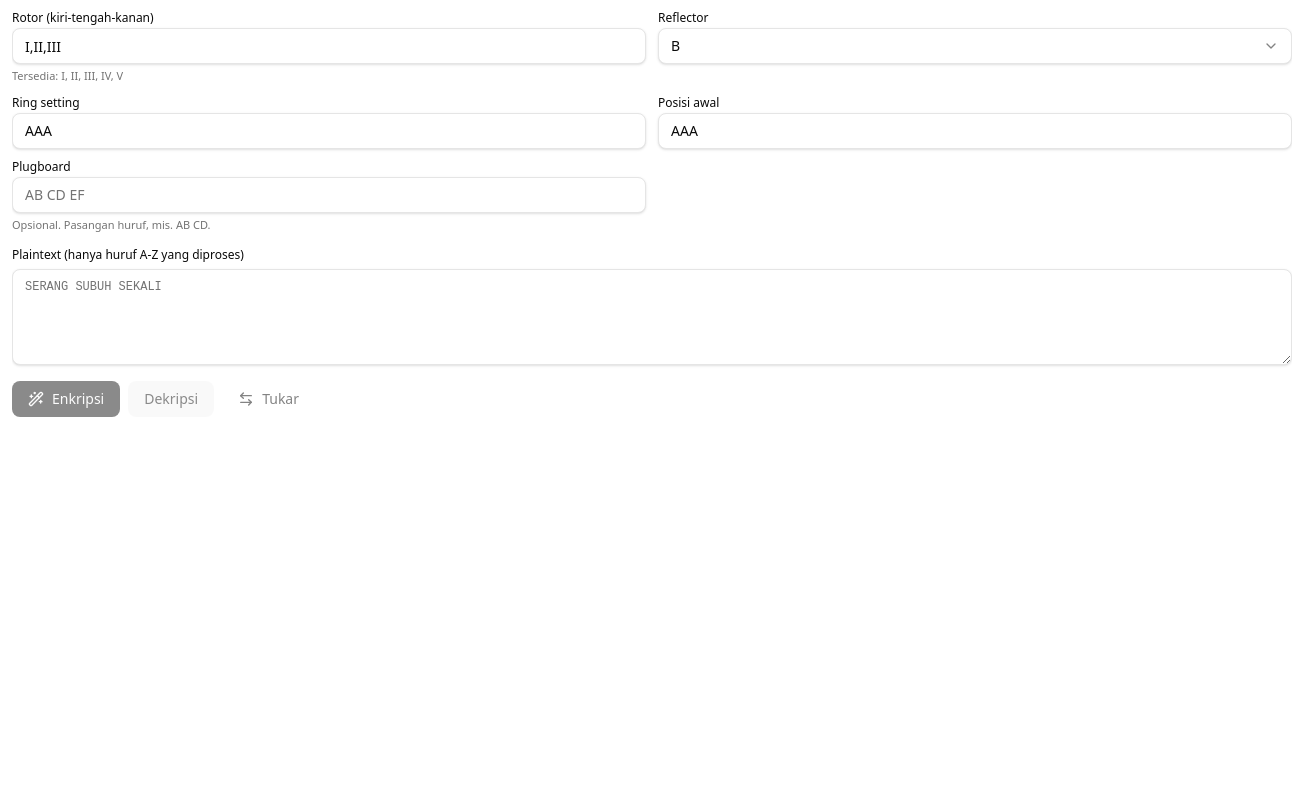
it: TextPanel — enkripsi/dekripsi teks lewat GUI › Enigma: kunci default -> AAAAA menjadi bdzgo
The width and height of the screenshot is (1304, 812).
In the text box labelled "Plaintext (hanya huruf A-Z yang diproses)": {"x": 652, "y": 317} [12,269,1292,365], type "AAAAA"
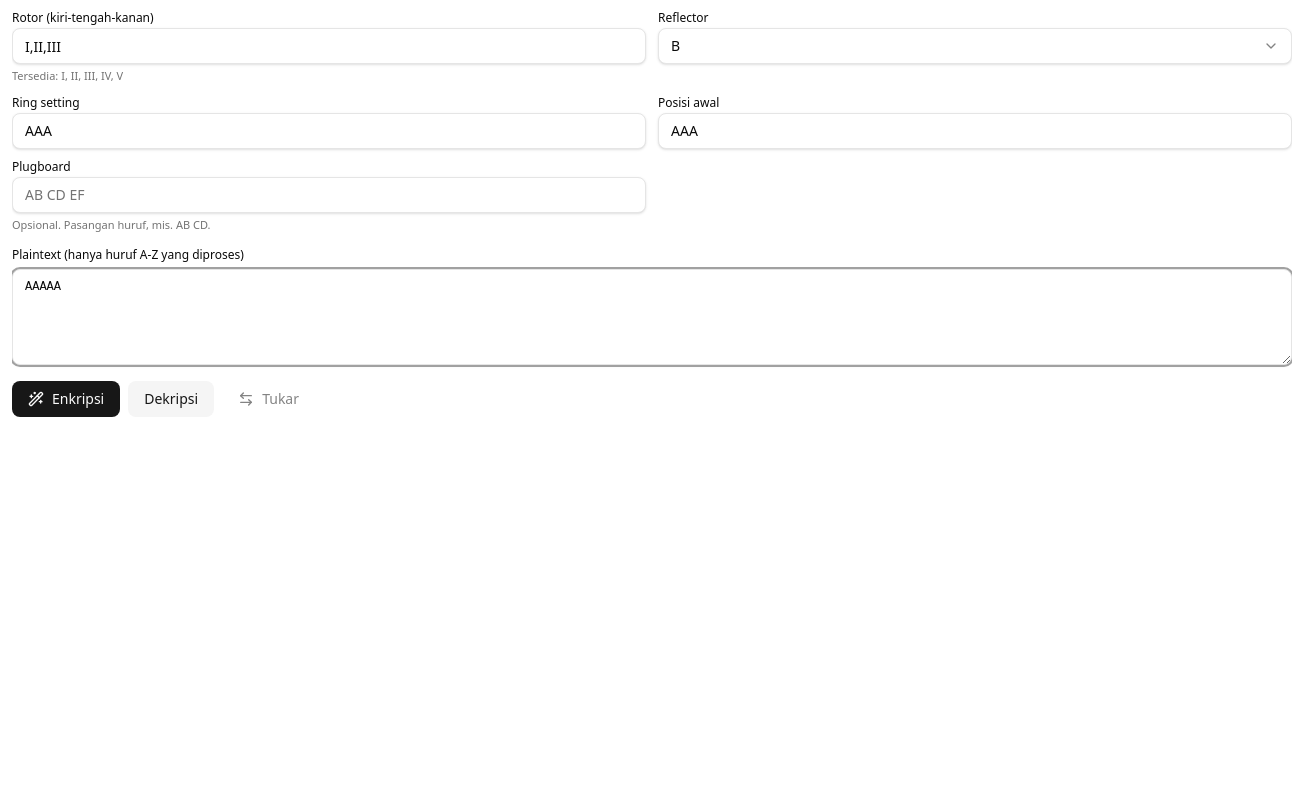
Click the button "Enkripsi": {"x": 66, "y": 399} [12,381,120,417]
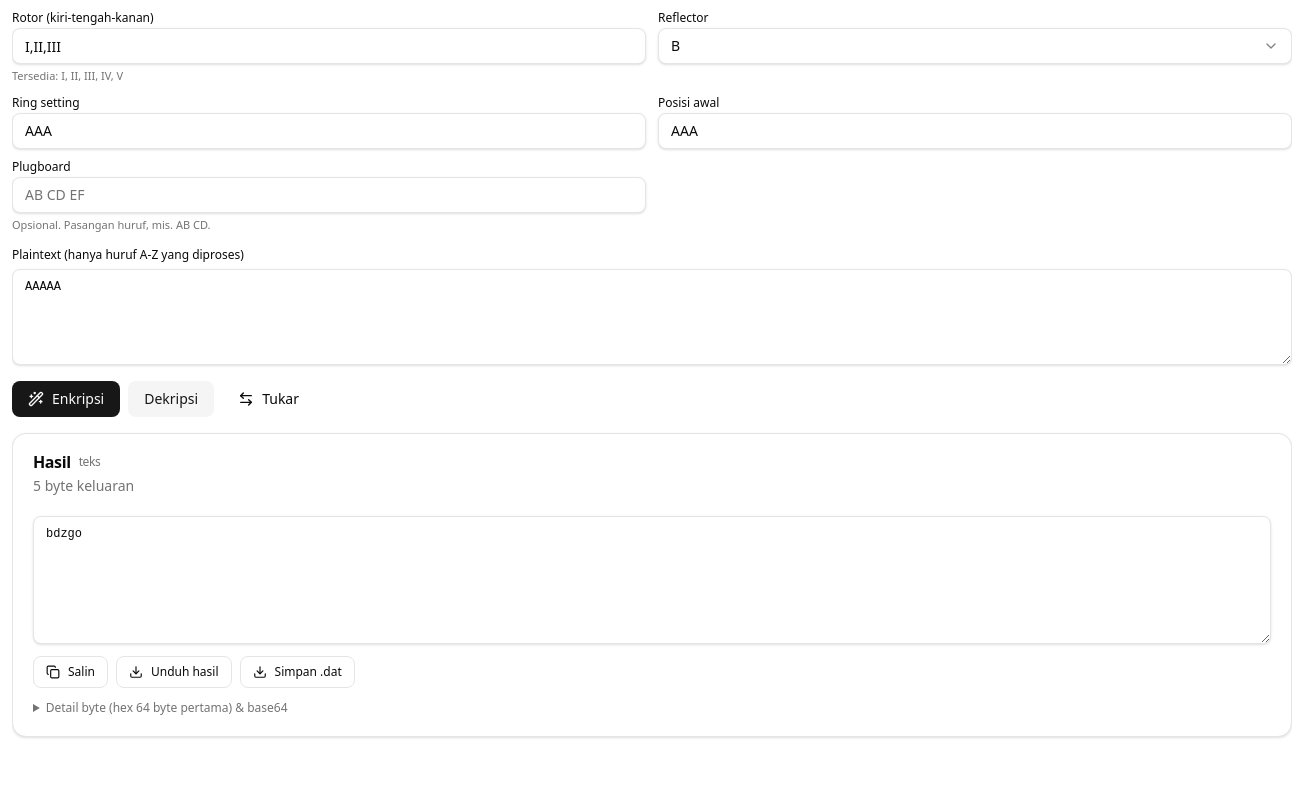
Result: the text box with test id "result-output" holds "bdzgo" at [33,516,1271,644]
